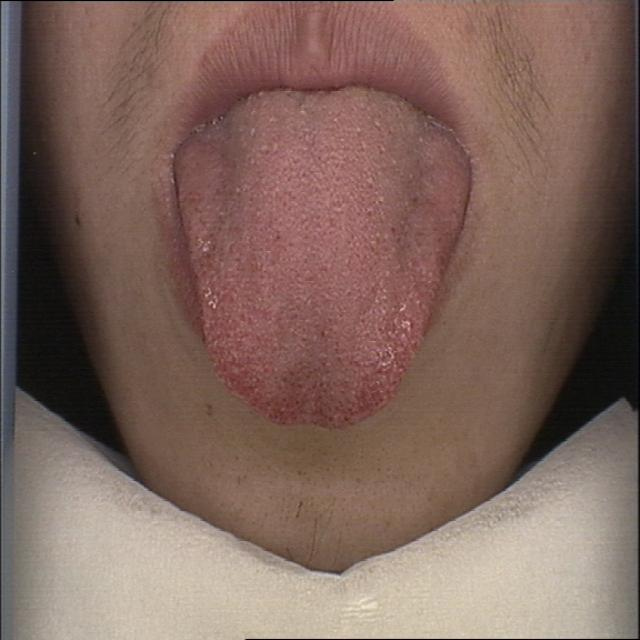tongue: (167, 90, 479, 436)
